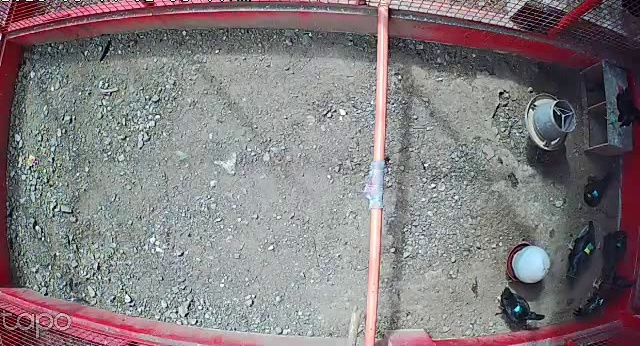Chicken: (560, 216, 600, 282), (493, 283, 545, 327), (606, 81, 640, 135), (596, 227, 631, 279), (576, 171, 616, 211)
Rooster: (571, 271, 639, 323)
Saddle_Color_Blue: (513, 305, 522, 313)
Saddle_Color_YellowGreen: (584, 243, 595, 255)
